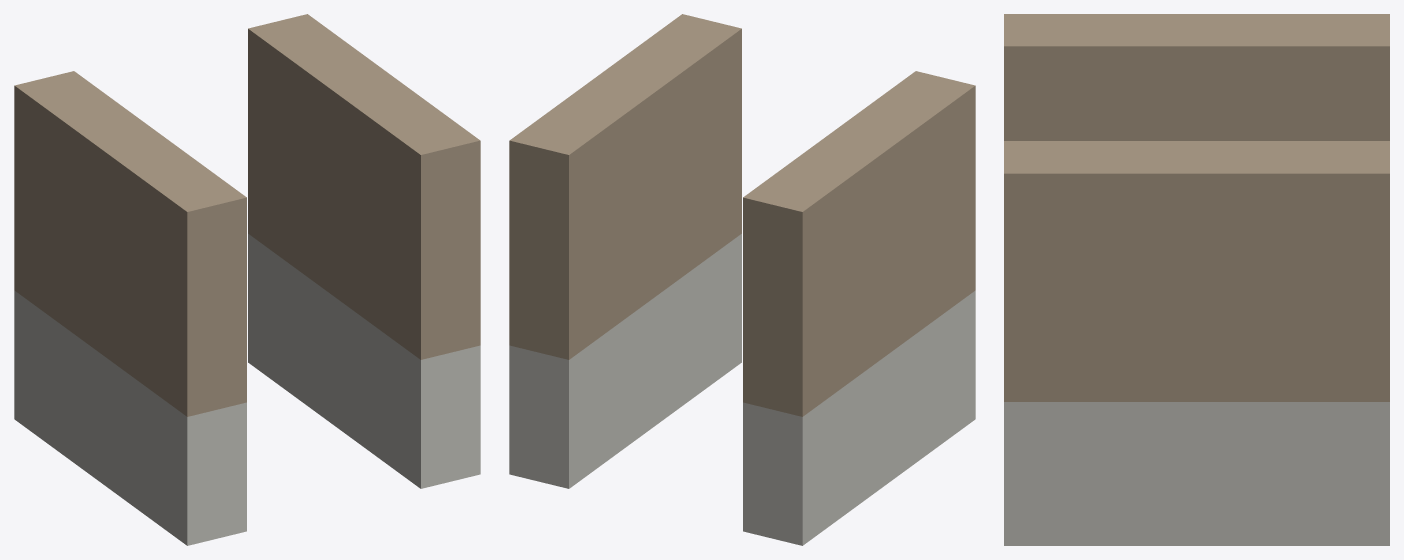
File: railwaybridge_stands.fbx
3 views of the same model, side by side, from view 1: azimuth 30°, elevation 25°; view 2: azimuth 150°, elevation 25°; view 3: azimuth 270°, elevation 25° (orthographic). The views are drawn at different scales.
Parts seen in each view (by area): view 1: railwaybridge_stands; view 2: railwaybridge_stands; view 3: railwaybridge_stands.
Part boxes in pixels (box(x1,y1,x2,y2)): railwaybridge_stands: box(14, 14, 480, 545); railwaybridge_stands: box(509, 14, 975, 545); railwaybridge_stands: box(1004, 14, 1389, 545).
Bounding box in the file's own units: 1078 × 1173 × 1101.
